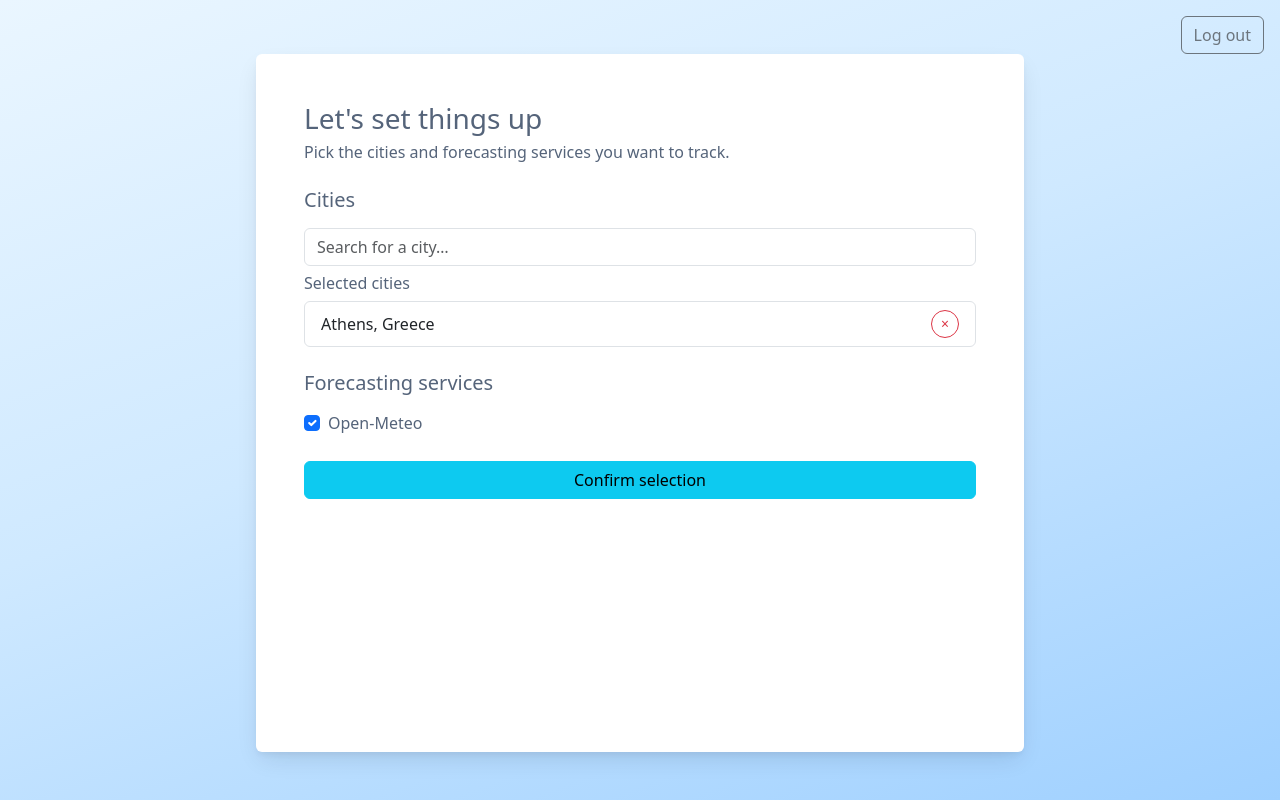
SetupPage - city search (UC4) › removes a selected city
expect the text "Athens, Greece" is shown: met, box x1=321 y1=312 x2=435 y2=336
Step 1. Click the button named "Remove Athens, Greece" → (945, 324), box x1=931 y1=310 x2=959 y2=338
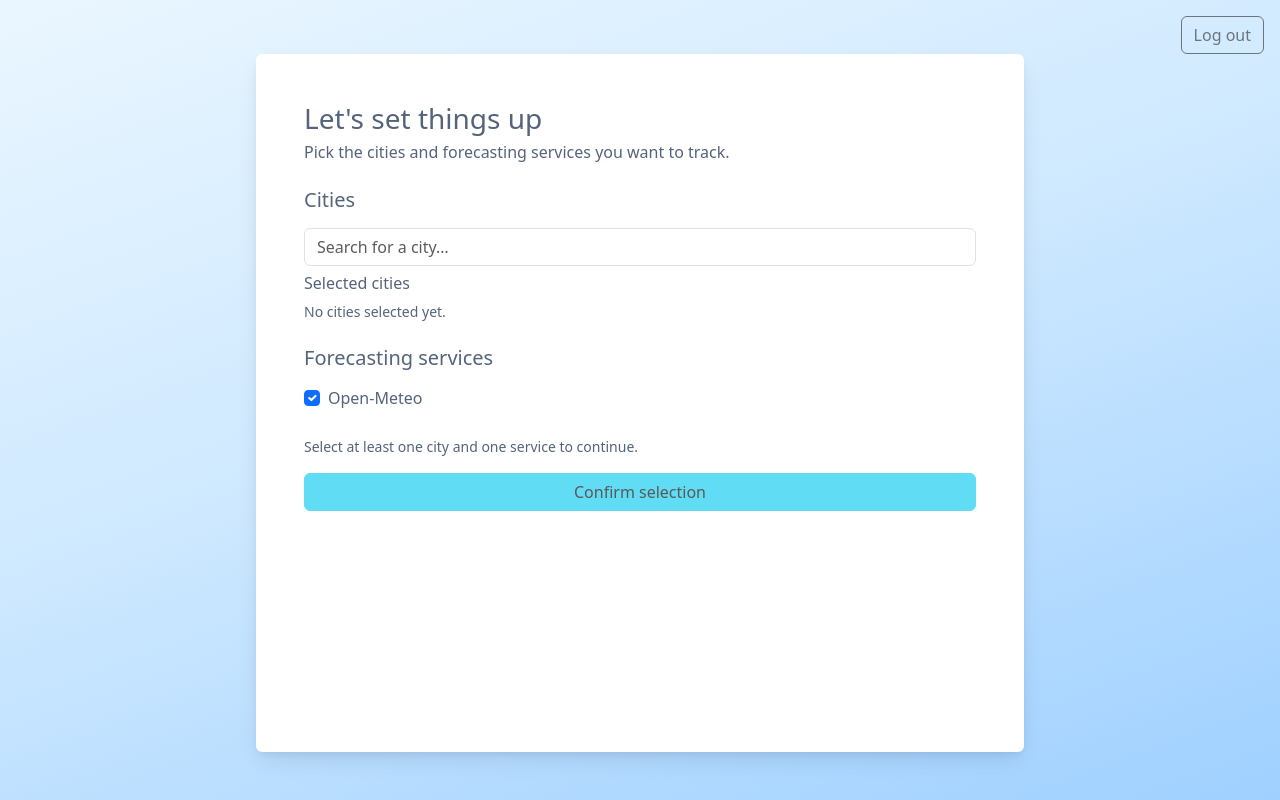
expect the text "No cities selected yet." is shown: met, box x1=304 y1=302 x2=446 y2=321
